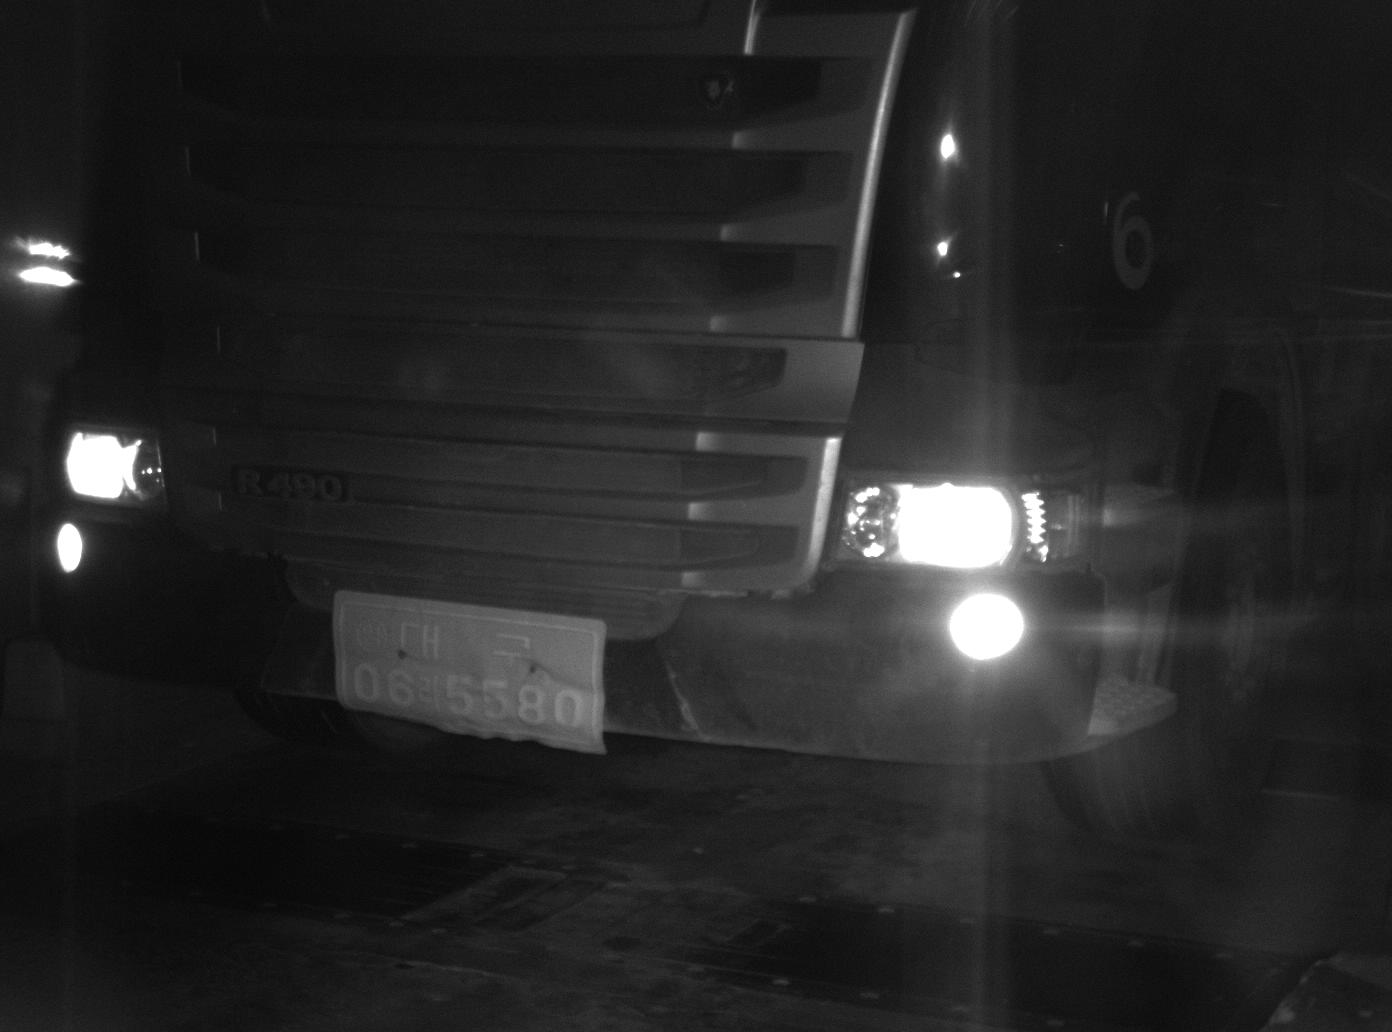car: (1, 1, 1392, 845)
plate: (329, 588, 607, 756)
